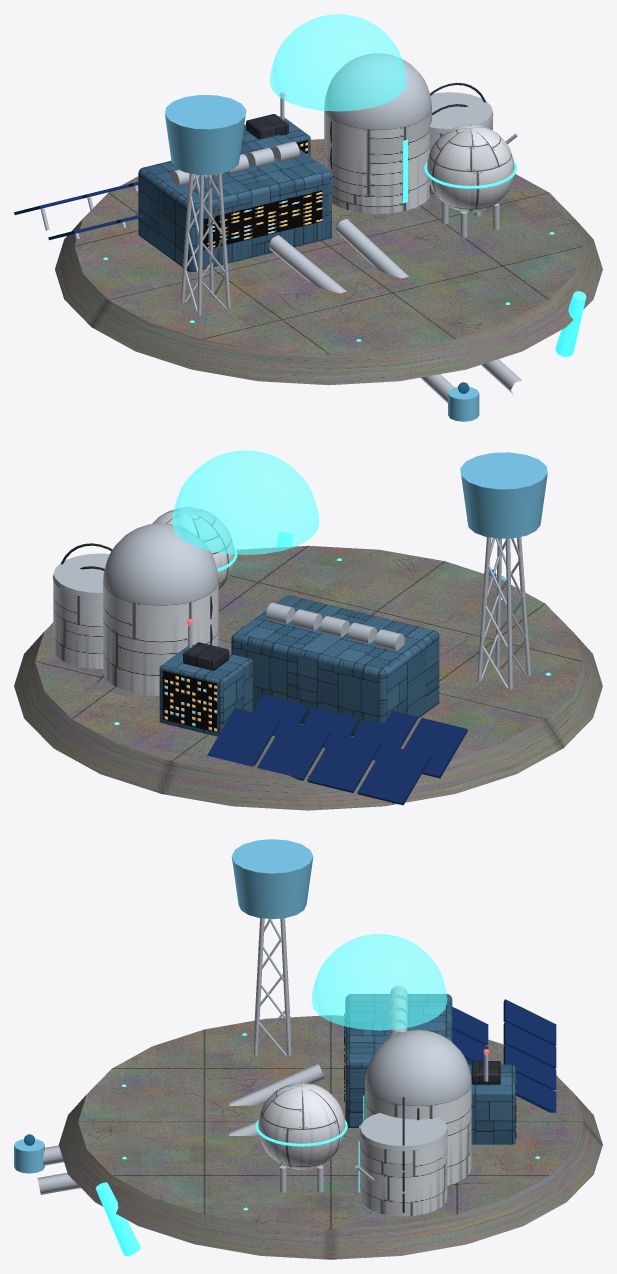
File: desal-T5.glb
3 views of the same model, one above another, from view 1: azimuth 30°, elevation 25°; view 2: azimuth 150°, elevation 25°; view 3: azimuth 270°, elevation 25° (orthographic). The views are drawn at different scales.
Parts seen in each view (by area): view 1: object 1, object 11, object 98, object 18, object 19, object 32, object 70, object 12, object 26, object 72, object 71, object 75 (+2 smaller); view 2: object 1, object 11, object 98, object 18, object 19, object 70, object 25, object 76, object 78, object 84, object 82, object 86 (+13 smaller); view 3: object 1, object 98, object 19, object 11, object 32, object 25, object 70, object 18, object 76, object 26, object 71, object 84 (+9 smaller).
Part boxes in pixels (x1,y1,x2,y2): object 1: (55,139,602,385); object 11: (138,134,331,271); object 98: (270,14,406,111); object 18: (324,107,431,213); object 19: (324,53,431,129); object 32: (427,124,514,212); object 70: (165,95,246,175); object 12: (203,190,322,250); object 26: (429,92,493,133); object 72: (335,218,521,394); object 71: (268,235,454,403); object 75: (555,291,586,356); object 1: (14,545,602,810); object 11: (231,595,439,736); object 98: (172,450,319,554); object 18: (103,581,218,695); object 19: (103,523,218,605); object 70: (460,452,547,538); object 25: (53,581,102,668); object 76: (159,644,252,736); object 78: (162,670,217,732); object 84: (307,732,380,793); object 82: (357,745,430,805); object 86: (257,720,330,780); object 1: (58,1015,602,1259); object 98: (311,934,447,1030); object 19: (365,1030,471,1105); object 11: (345,994,452,1127); object 32: (258,1082,345,1169); object 25: (360,1134,447,1216); object 70: (231,839,313,919); object 18: (365,1084,471,1185); object 76: (468,1064,515,1144); object 26: (359,1113,447,1150); object 71: (42,1063,324,1165); object 84: (503,1021,556,1068).
Bounding box in the file's own units: 5.6 × 3.01 × 6.06.
14 materials, 6 textured.
